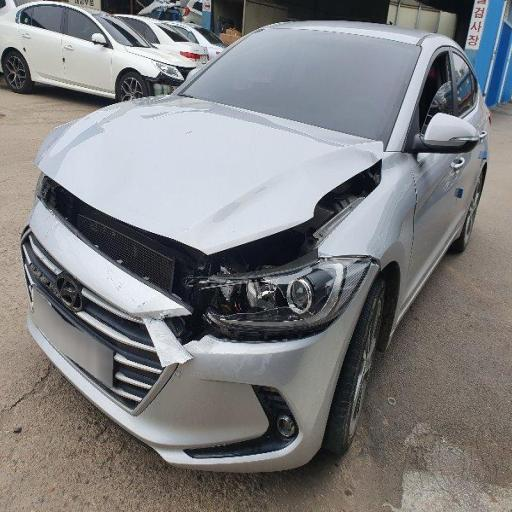broken: (132, 188, 392, 392)
